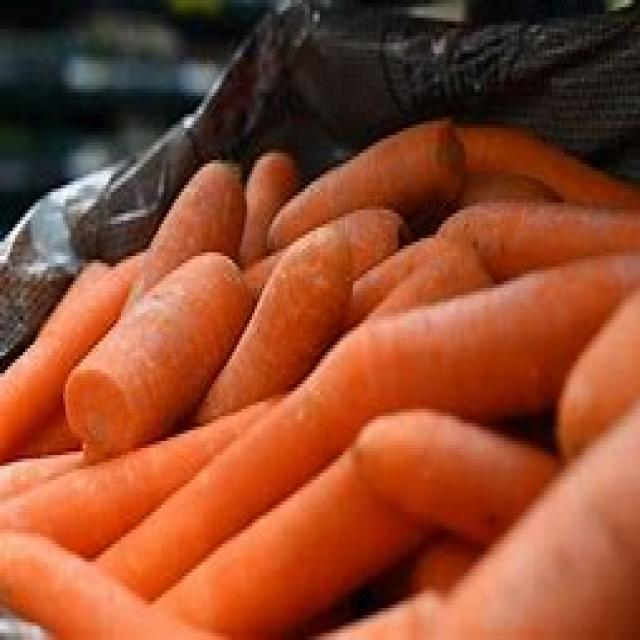carrot: (69, 249, 248, 446)
